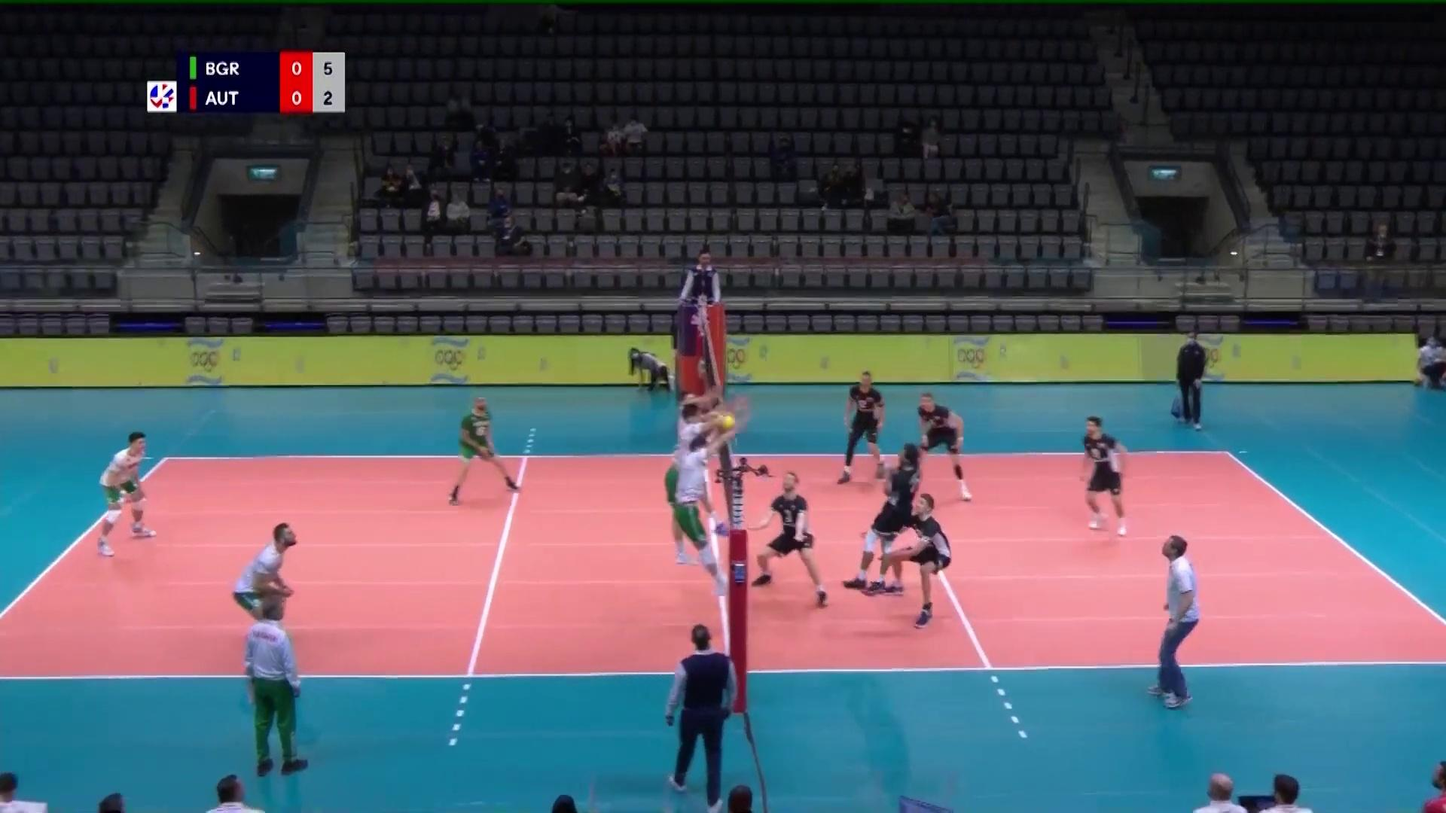ball: (721, 414, 735, 431)
